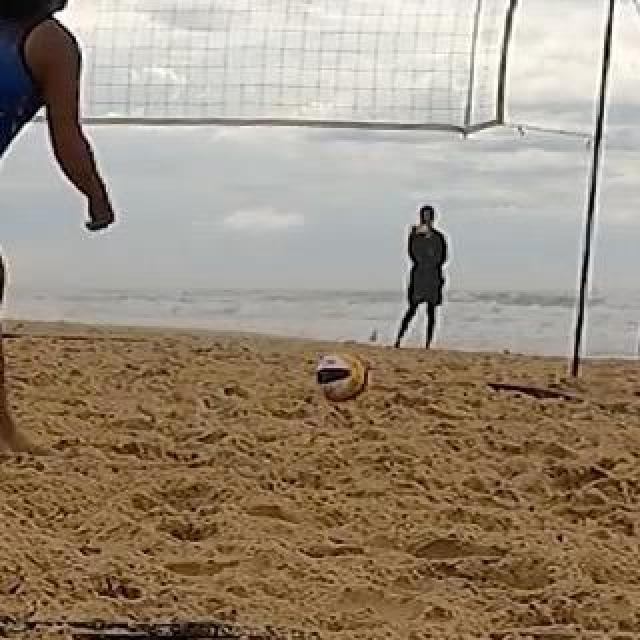volleyball: (315, 351, 369, 403)
